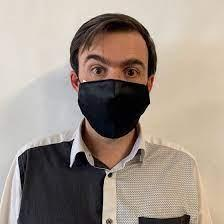mask: (75, 78, 155, 140)
